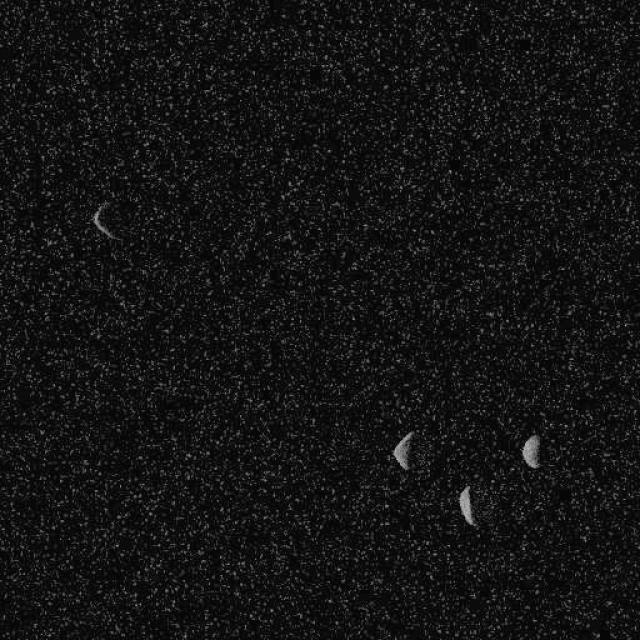D2: (91, 199, 124, 241), (391, 430, 415, 471), (457, 483, 478, 528), (520, 432, 541, 468)
